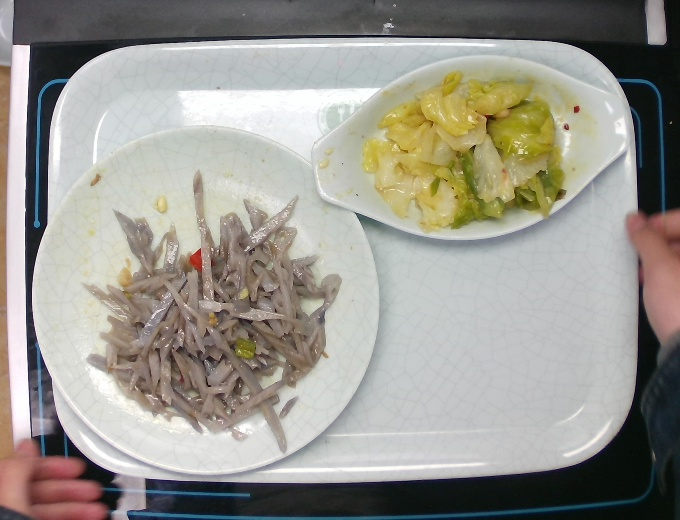JYsf-Da_Yuan_Pan: (28, 122, 382, 478)
JYsf-Yu_Pan: (308, 50, 630, 241)
